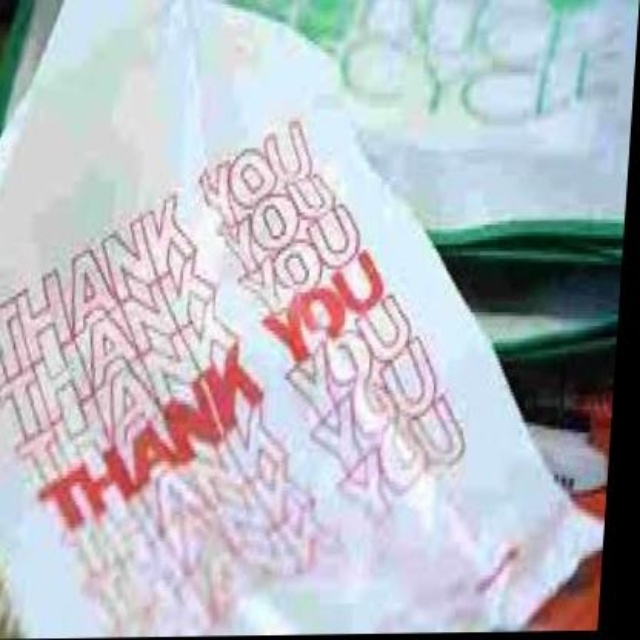trash: (0, 0, 600, 635)
